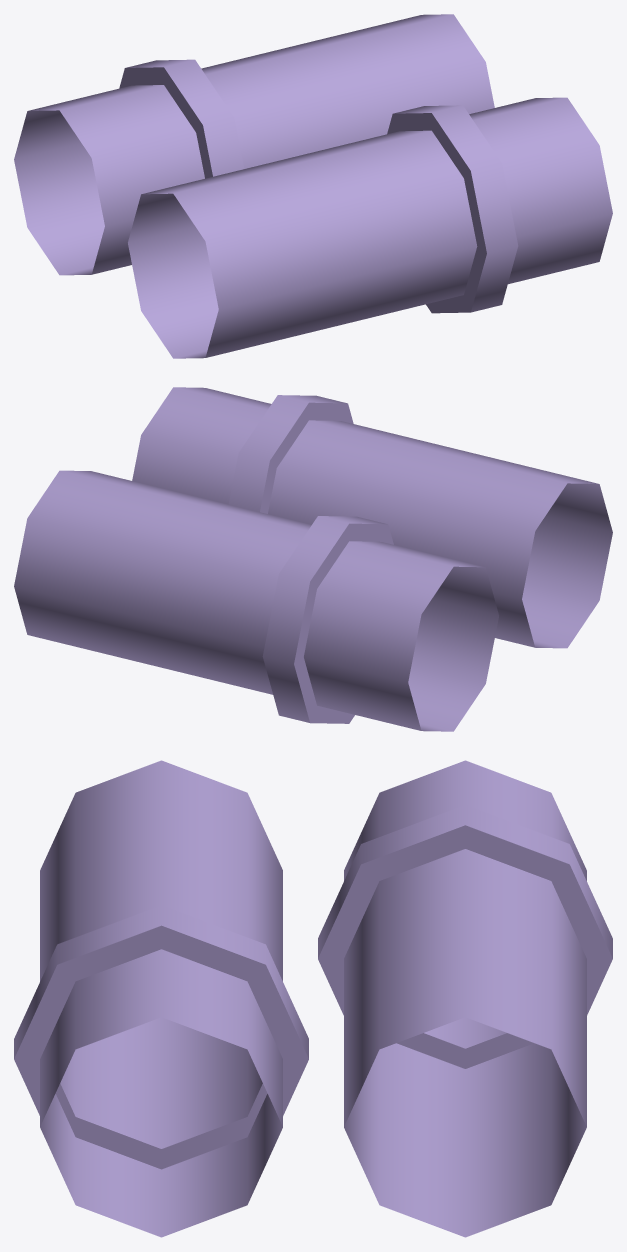
The model's file is tile_pipe_straight.fbx.
The picture shows the model from 3 angles, top to bottom: view 1: azimuth 30°, elevation 25°; view 2: azimuth 150°, elevation 25°; view 3: azimuth 270°, elevation 25°; orthographic projection. The views are drawn at different scales.
Parts seen in each view (by area): view 1: pCylinder7; view 2: pCylinder7; view 3: pCylinder7.
Boxes of the visible parts, left/top/right/bottom form: pCylinder7: left=14, top=14, right=612, bottom=358; pCylinder7: left=14, top=387, right=612, bottom=731; pCylinder7: left=14, top=760, right=612, bottom=1237.
Size of the model in its own units: 10 by 4.86 by 9.86.
